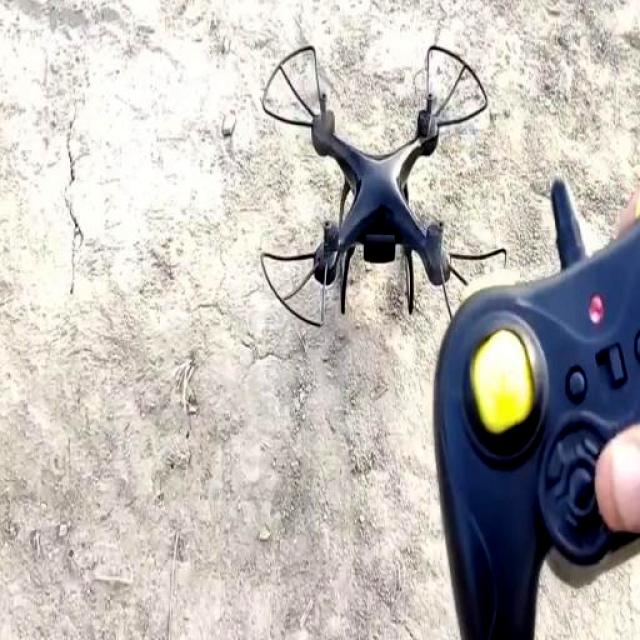bird: (249, 21, 526, 324)
